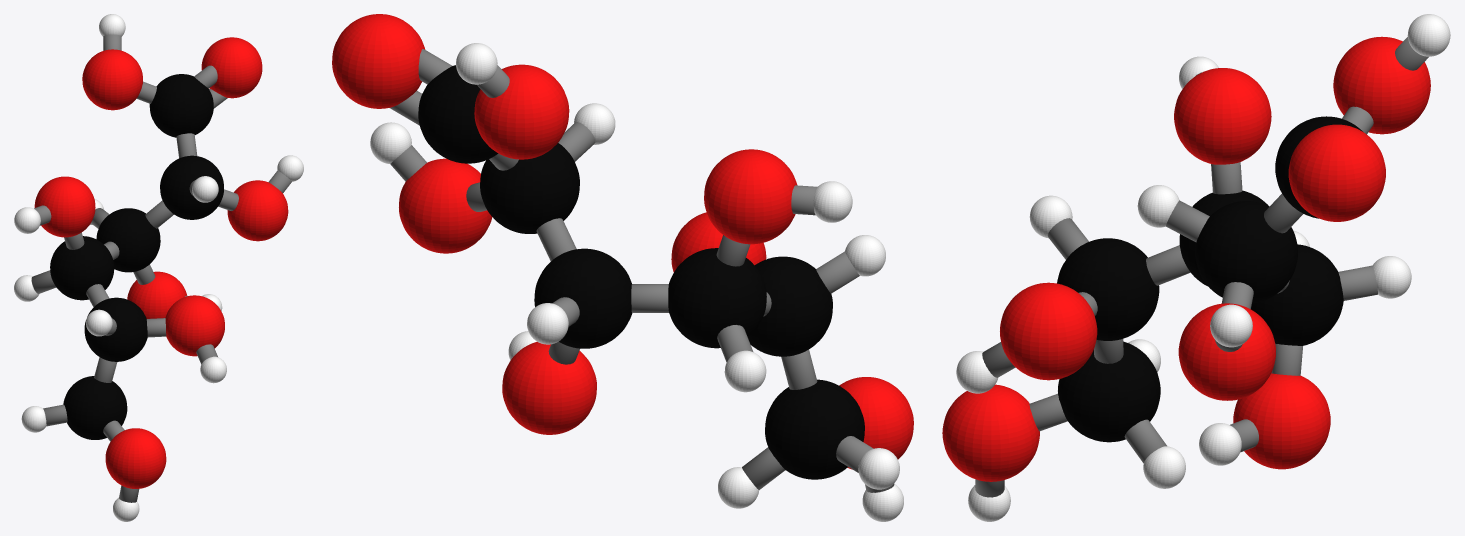
The model's file is ACIDO GLUCONICO.obj.
3 renders of one model, left to right at view 1: azimuth 30°, elevation 25°; view 2: azimuth 150°, elevation 25°; view 3: azimuth 270°, elevation 25°, orthographic. The views are drawn at different scales.
Parts seen in each view (by area): view 1: Oxygen_ball_Sphere.002, Carbon_ball_Sphere, Hydrogen_ball_Sphere.001, Stick_Cylinder.005_Cylinder.005, Stick_Cylinder.015_Cylinder.015, Stick_Cylinder.008_Cylinder.008, Stick_Cylinder.010_Cylinder.010, Stick_Cylinder.001_Cylinder.001, Stick_Cylinder.009_Cylinder.009, Stick_Cylinder.021_Cylinder.021; view 2: Oxygen_ball_Sphere.002, Carbon_ball_Sphere, Hydrogen_ball_Sphere.001, Stick_Cylinder_Cylinder, Stick_Cylinder.005_Cylinder.005, Stick_Cylinder.008_Cylinder.008, Stick_Cylinder.007_Cylinder.007, Stick_Cylinder.011_Cylinder.011, Stick_Cylinder.013_Cylinder.013, Stick_Cylinder.001_Cylinder.001, Stick_Cylinder.010_Cylinder.010, Stick_Cylinder.003_Cylinder.003 (+3 smaller); view 3: Oxygen_ball_Sphere.002, Carbon_ball_Sphere, Hydrogen_ball_Sphere.001, Stick_Cylinder.002_Cylinder.002, Stick_Cylinder.004_Cylinder.004, Stick_Cylinder.013_Cylinder.013, Stick_Cylinder.011_Cylinder.011, Stick_Cylinder.007_Cylinder.007, Stick_Cylinder.012_Cylinder.012, Stick_Cylinder.003_Cylinder.003, Stick_Cylinder.015_Cylinder.015, Stick_Cylinder.006_Cylinder.006 (+4 smaller).
Boxes of the visible parts, x1,y1,x2,y2 form: Oxygen_ball_Sphere.002: (34,37,288,488); Carbon_ball_Sphere: (50,74,223,439); Hydrogen_ball_Sphere.001: (14,14,303,521); Stick_Cylinder.005_Cylinder.005: (145,200,173,228); Stick_Cylinder.015_Cylinder.015: (176,133,197,158); Stick_Cylinder.008_Cylinder.008: (94,357,117,382); Stick_Cylinder.010_Cylinder.010: (43,404,67,426); Stick_Cylinder.001_Cylinder.001: (31,270,56,293); Stick_Cylinder.009_Cylinder.009: (146,318,166,337); Stick_Cylinder.021_Cylinder.021: (194,65,217,88); Oxygen_ball_Sphere.002: (332,14,913,469); Carbon_ball_Sphere: (418,65,864,479); Hydrogen_ball_Sphere.001: (370,43,903,521); Stick_Cylinder_Cylinder: (631,284,668,312); Stick_Cylinder.005_Cylinder.005: (536,218,576,261); Stick_Cylinder.008_Cylinder.008: (781,349,817,389); Stick_Cylinder.007_Cylinder.007: (816,251,859,293); Stick_Cylinder.011_Cylinder.011: (742,447,785,489); Stick_Cylinder.013_Cylinder.013: (558,122,595,161); Stick_Cylinder.001_Cylinder.001: (717,325,753,362); Stick_Cylinder.010_Cylinder.010: (836,436,873,472); Stick_Cylinder.003_Cylinder.003: (716,235,750,266); Oxygen_ball_Sphere.002: (942,36,1430,481); Carbon_ball_Sphere: (1057,116,1362,442); Hydrogen_ball_Sphere.001: (956,14,1450,521); Stick_Cylinder.002_Cylinder.002: (1146,245,1190,285); Stick_Cylinder.004_Cylinder.004: (1338,265,1377,300); Stick_Cylinder.013_Cylinder.013: (1166,200,1209,242); Stick_Cylinder.011_Cylinder.011: (1124,419,1166,463); Stick_Cylinder.007_Cylinder.007: (1048,218,1088,259); Stick_Cylinder.012_Cylinder.012: (1029,393,1067,431); Stick_Cylinder.003_Cylinder.003: (1211,162,1242,194); Stick_Cylinder.015_Cylinder.015: (1264,194,1303,233); Stick_Cylinder.006_Cylinder.006: (1271,343,1302,375).
Bounding box in the file's own units: 7.66 × 8.92 × 6.84.
